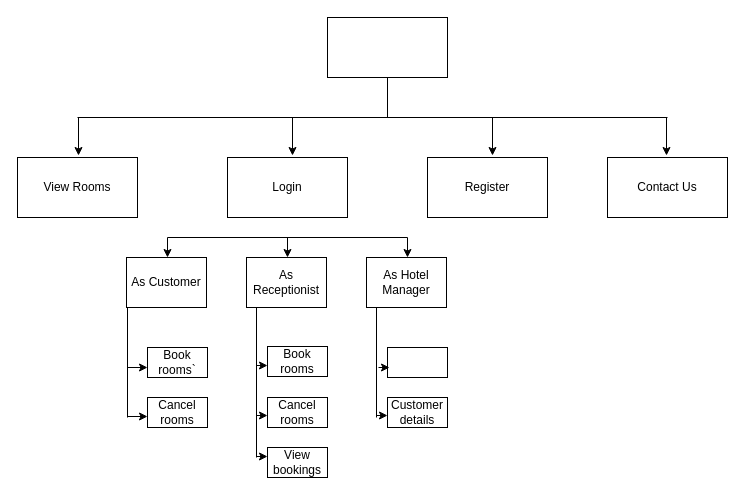
Some shapes in this 745 by 495 pixel diagram are drawn without their labels. Here are the shapes that lost their labels. From the top down, the centre of each, then its label:
At point 387,47: "Home".
At point 417,362: "Edit room Details".
